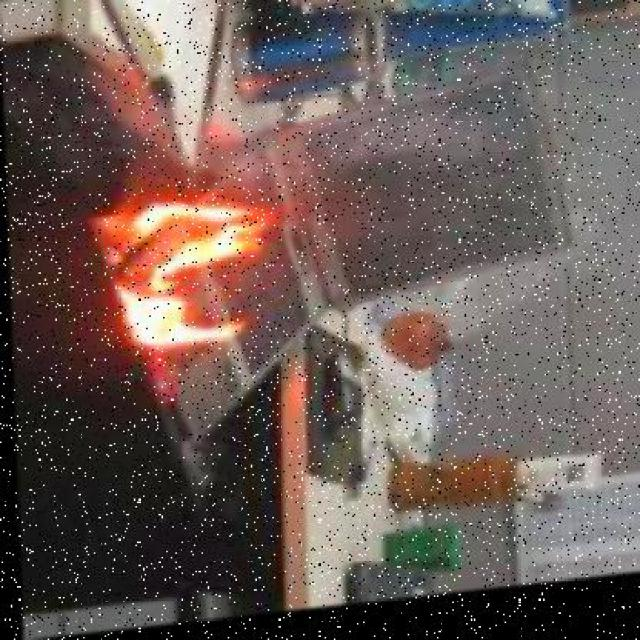fire: (99, 176, 301, 374)
